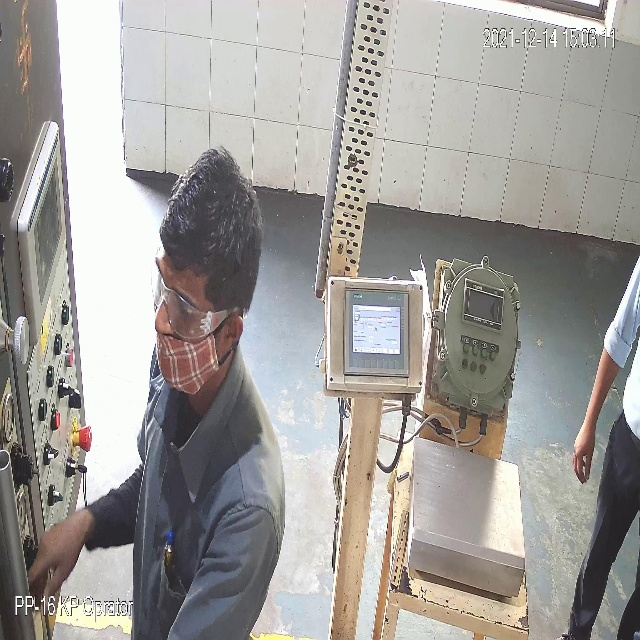Gafas: (148, 265, 232, 331)
Sin_guantes: (569, 340, 617, 490)
